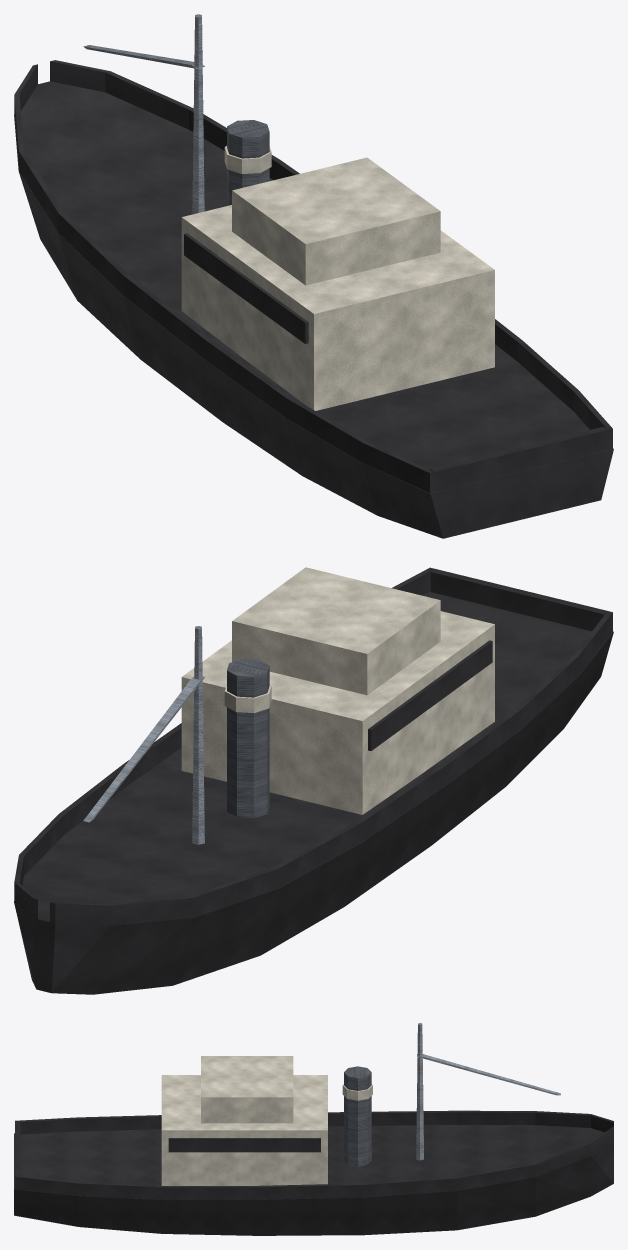
File: steel_vessel.fbx
The picture shows the model from 3 angles, top to bottom: view 1: azimuth 30°, elevation 25°; view 2: azimuth 150°, elevation 25°; view 3: azimuth 270°, elevation 25°; orthographic projection. The views are drawn at different scales.
Visible parts, largest first — view 1: steel_vessel; view 2: steel_vessel; view 3: steel_vessel.
Boxes of the visible parts, x1,y1,x2,y2 form: steel_vessel: (14,14,613,538); steel_vessel: (14,567,613,994); steel_vessel: (14,1023,613,1235).
Bounding box in the file's own units: 380 × 430 × 1300.
